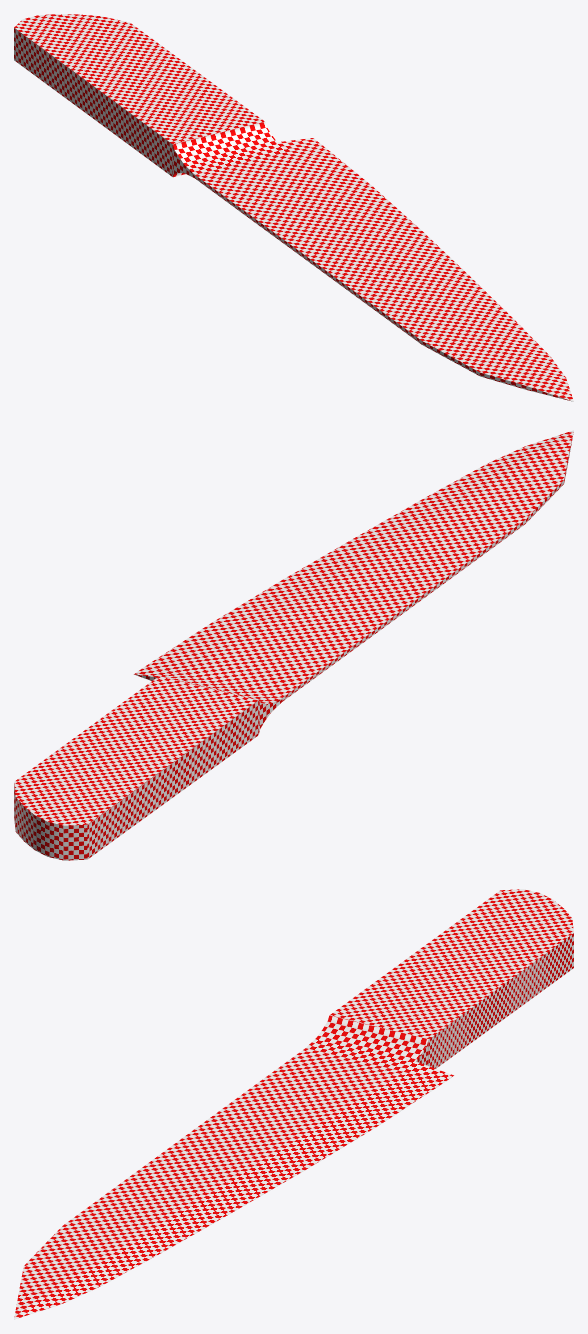
File: Knife.fbx
3 renders of one model, top to bottom at view 1: azimuth 30°, elevation 25°; view 2: azimuth 150°, elevation 25°; view 3: azimuth 330°, elevation 25°, orthographic. The views are drawn at different scales.
Parts seen in each view (by area): view 1: Knife; view 2: Knife; view 3: Knife.
Part boxes in pixels (x1,y1,x2,y2): Knife: (14,14,573,401); Knife: (14,430,573,860); Knife: (14,889,573,1319).
Bounding box in the file's own units: 0.2854 × 0.0705 × 1.98.
1 material, 1 textured.
